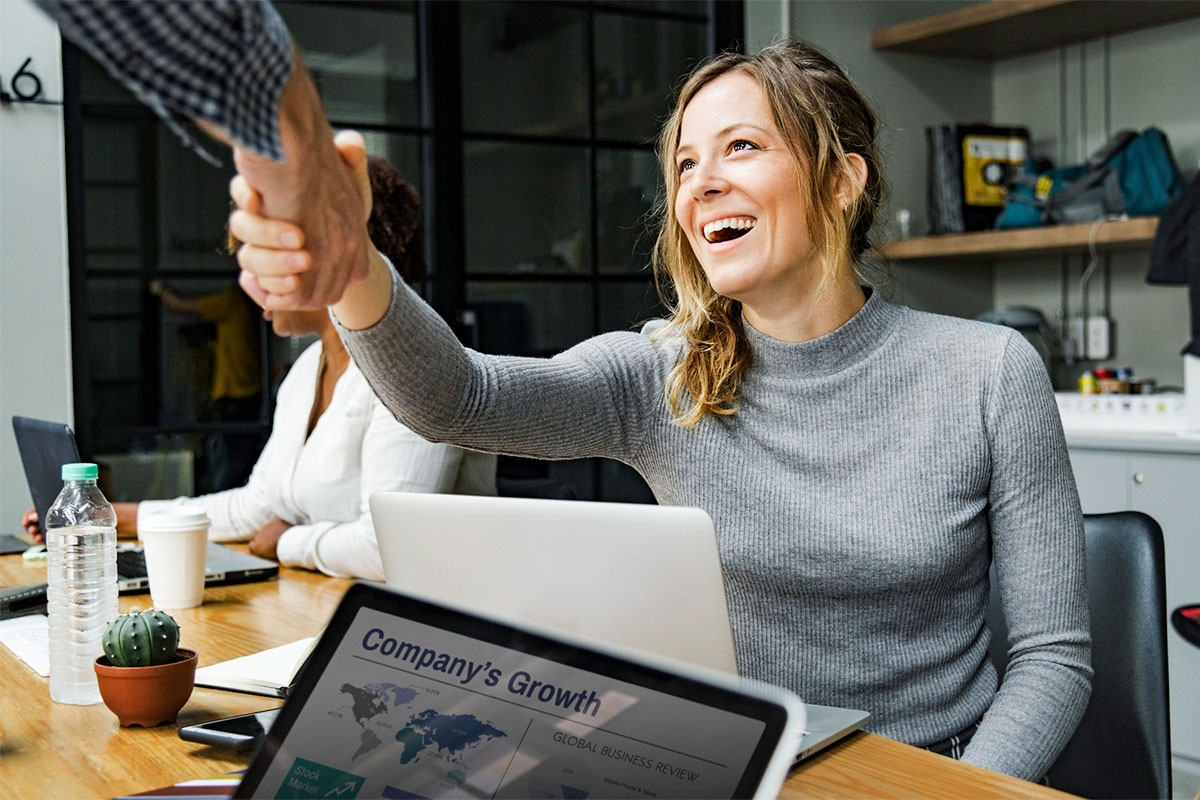human: (209, 39, 1110, 776), (17, 123, 515, 592)
